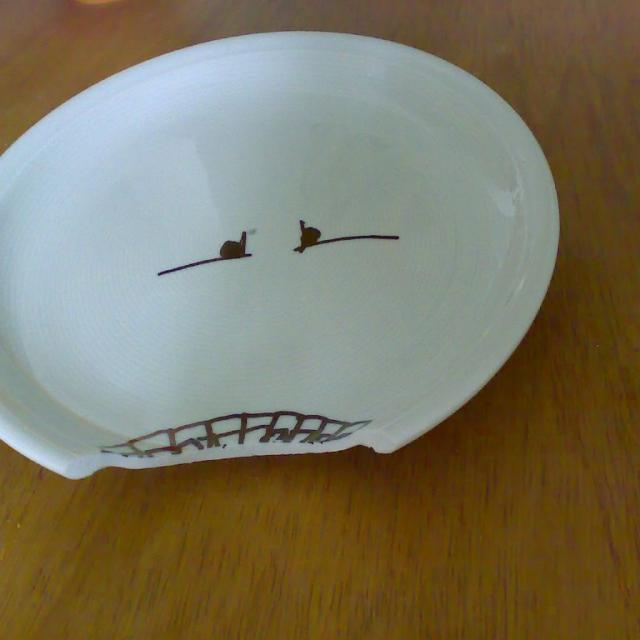non-organic waste: (7, 20, 557, 548)
